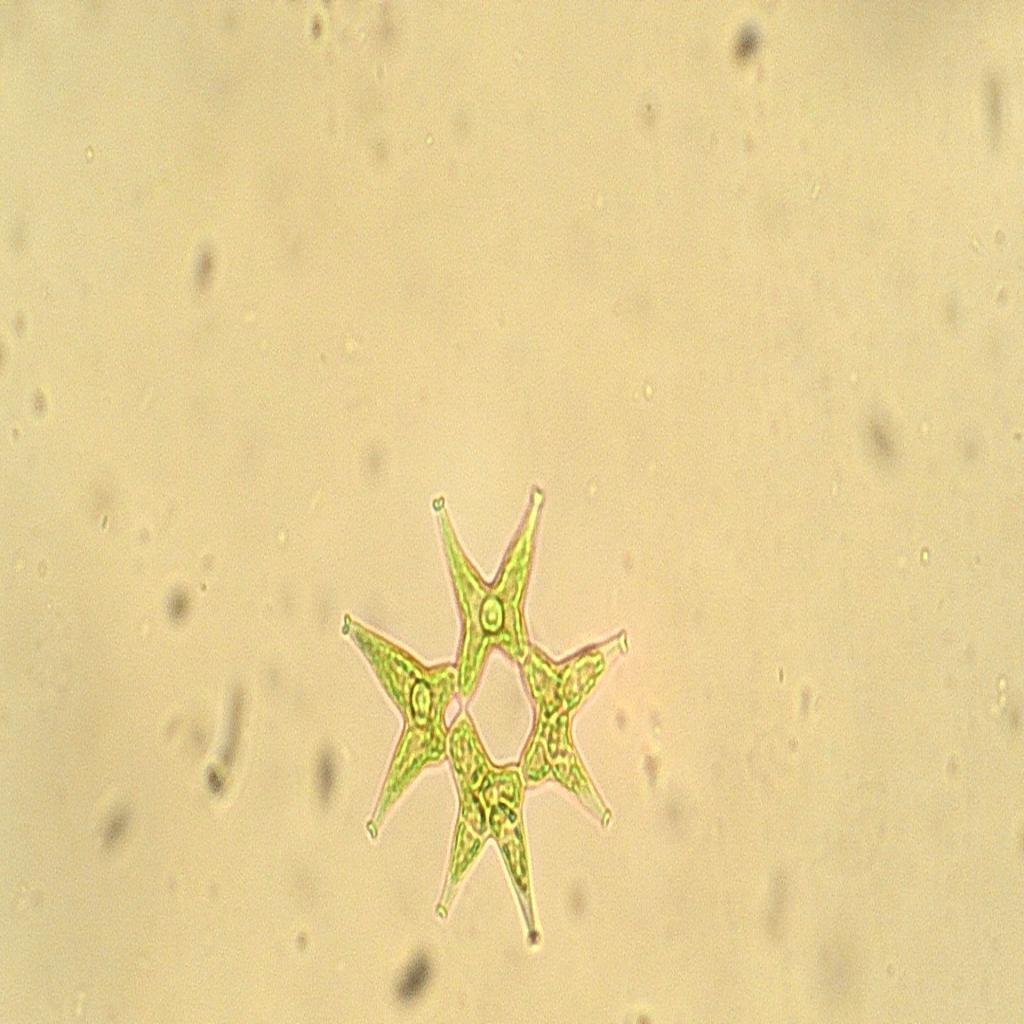Pediastrum_CF: (326, 456, 639, 963)
